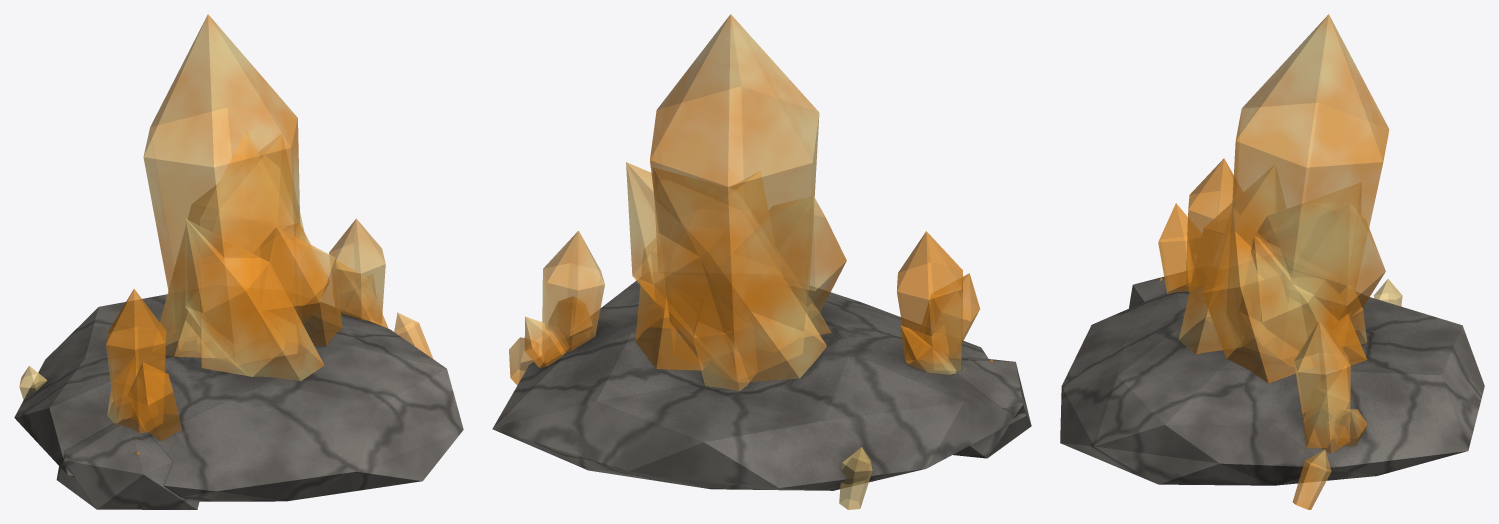
The model's file is mineral_cristal_naranja.fbx.
The picture shows the model from 3 angles, left to right: view 1: azimuth 30°, elevation 25°; view 2: azimuth 150°, elevation 25°; view 3: azimuth 270°, elevation 25°; orthographic projection. The views are drawn at different scales.
Visible parts, largest first — view 1: mineral_cristal_naranja, mineral_cristal_naranja_cristal; view 2: mineral_cristal_naranja_cristal, mineral_cristal_naranja; view 3: mineral_cristal_naranja_cristal, mineral_cristal_naranja.
Boxes of the visible parts, box(x1,y1,x2,y2) form: mineral_cristal_naranja: box(14, 294, 463, 509); mineral_cristal_naranja_cristal: box(19, 14, 433, 454); mineral_cristal_naranja_cristal: box(509, 14, 992, 509); mineral_cristal_naranja: box(492, 278, 1031, 490); mineral_cristal_naranja_cristal: box(1158, 14, 1402, 509); mineral_cristal_naranja: box(1060, 271, 1484, 485).
Bounding box in the file's own units: 6.99 × 6.58 × 6.16.
Materials: 2 (2 with a texture image).
